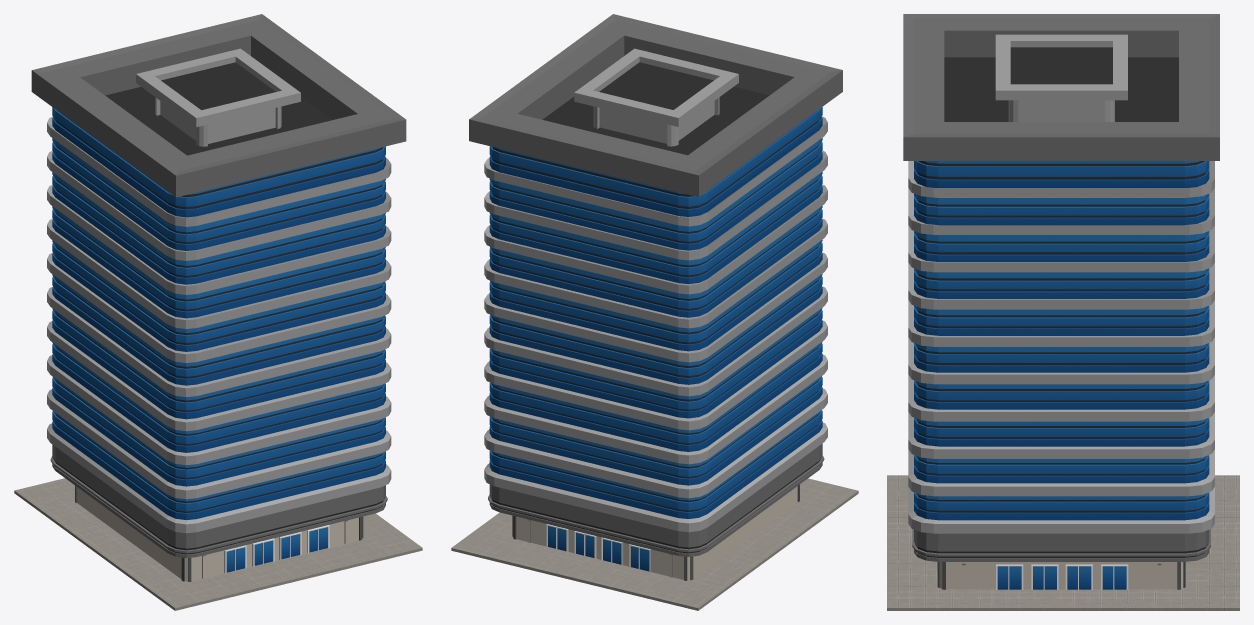
The model's file is Skyscraper_05.fbx.
3 renders of one model, left to right at view 1: azimuth 30°, elevation 25°; view 2: azimuth 150°, elevation 25°; view 3: azimuth 270°, elevation 25°, orthographic. The views are drawn at different scales.
Parts seen in each view (by area): view 1: Skyscraper_05; view 2: Skyscraper_05; view 3: Skyscraper_05.
Part boxes in pixels (left/top/right/bottom): Skyscraper_05: left=14, top=14, right=422, bottom=610; Skyscraper_05: left=451, top=14, right=858, bottom=610; Skyscraper_05: left=887, top=14, right=1239, bottom=610.
Size of the model in its own units: 4800 by 8138 by 5400.
